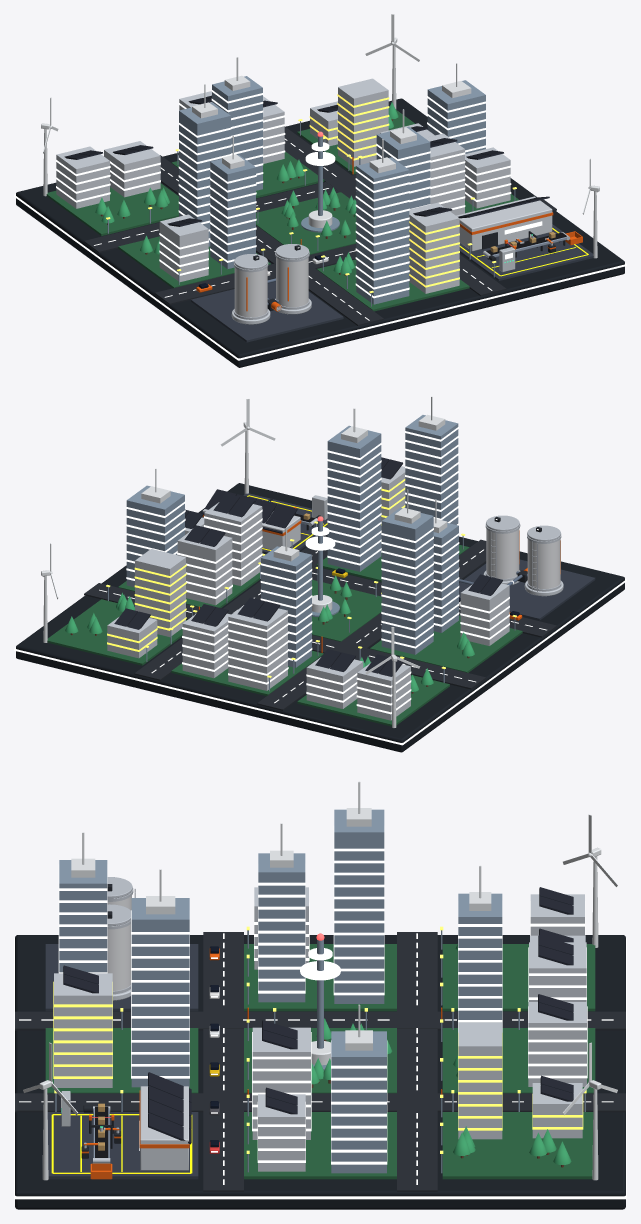
The model's file is smart_city.glb.
3 renders of one model, top to bottom at view 1: azimuth 30°, elevation 25°; view 2: azimuth 150°, elevation 25°; view 3: azimuth 270°, elevation 25°, orthographic. The views are drawn at different scales.
Parts seen in each view (by area): view 1: Towers, Buildings, Platform, Grass, WindowsCool, Roads, PlantFloor, Trees, HallBody, FactoryFloor, RoofDetails, WindowsWarm (+5 smaller); view 2: Towers, Buildings, Platform, WindowsCool, Grass, Roads, SolarPanels, PlantFloor, RoofDetails, PlatformEdge, Trees, TankGlass1 (+5 smaller); view 3: Towers, Platform, Roads, Buildings, Grass, WindowsCool, FactoryFloor, SolarPanels, RoofDetails, WindowsWarm, PlatformEdge, HallBody (+9 smaller).
Boxes of the visible parts, box(x1,y1,x2,y2) form: Towers: box(179, 76, 485, 304); Buildings: box(56, 78, 510, 293); Platform: box(16, 98, 624, 367); Grass: box(46, 109, 518, 311); WindowsCool: box(56, 90, 511, 298); Roads: box(84, 126, 556, 326); PlantFloor: box(191, 281, 343, 342); Trees: box(95, 102, 398, 274); HallBody: box(456, 196, 552, 251); FactoryFloor: box(459, 224, 593, 280); RoofDetails: box(192, 57, 471, 173); WindowsWarm: box(309, 94, 459, 287); Towers: box(126, 415, 458, 667); Buildings: box(107, 466, 509, 720); Platform: box(16, 483, 624, 752); WindowsCool: box(126, 426, 509, 714); Grass: box(47, 544, 522, 726); Roads: box(84, 534, 556, 710); SolarPanels: box(114, 457, 502, 676); PlantFloor: box(459, 559, 595, 620); RoofDetails: box(141, 396, 447, 561); PlatformEdge: box(14, 579, 626, 745); Trees: box(65, 575, 474, 691); TankGlass1: box(486, 529, 519, 578); Towers: box(59, 809, 502, 1173); Platform: box(15, 935, 625, 1209); Roads: box(15, 932, 625, 1191); Buildings: box(54, 887, 586, 1171); Grass: box(45, 944, 595, 1179); WindowsCool: box(58, 826, 587, 1164); FactoryFloor: box(47, 1112, 198, 1179); SolarPanels: box(63, 887, 573, 1114); RoofDetails: box(71, 781, 491, 1050); WindowsWarm: box(53, 981, 583, 1130); PlatformEdge: box(14, 938, 626, 1199); HallBody: box(140, 1086, 188, 1170).
Size of the model in its own units: 6.02 by 2.52 by 6.02.
